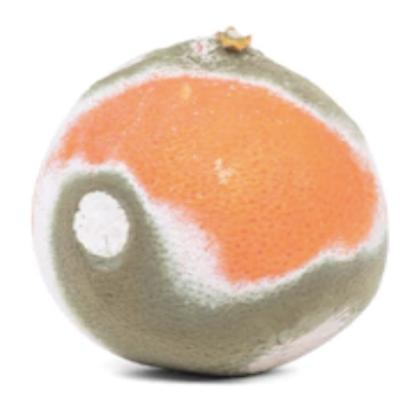rotten: (30, 34, 388, 387)
